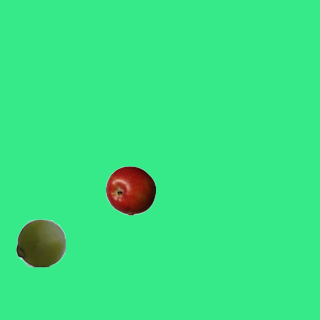Apple Braeburn: (105, 165, 155, 215)
Grape White 4: (15, 217, 65, 267)
